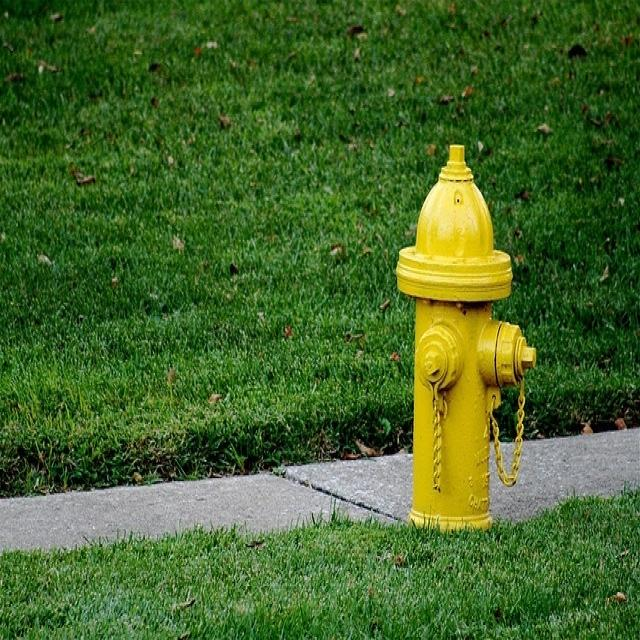fire_hydrant: (372, 126, 532, 560)
